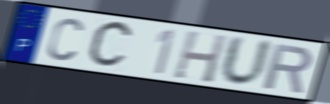1: (153, 27, 178, 77)
C: (84, 19, 136, 71), (45, 16, 85, 62)
H: (171, 29, 229, 86)
R: (261, 42, 314, 95)
U: (218, 33, 275, 89)
